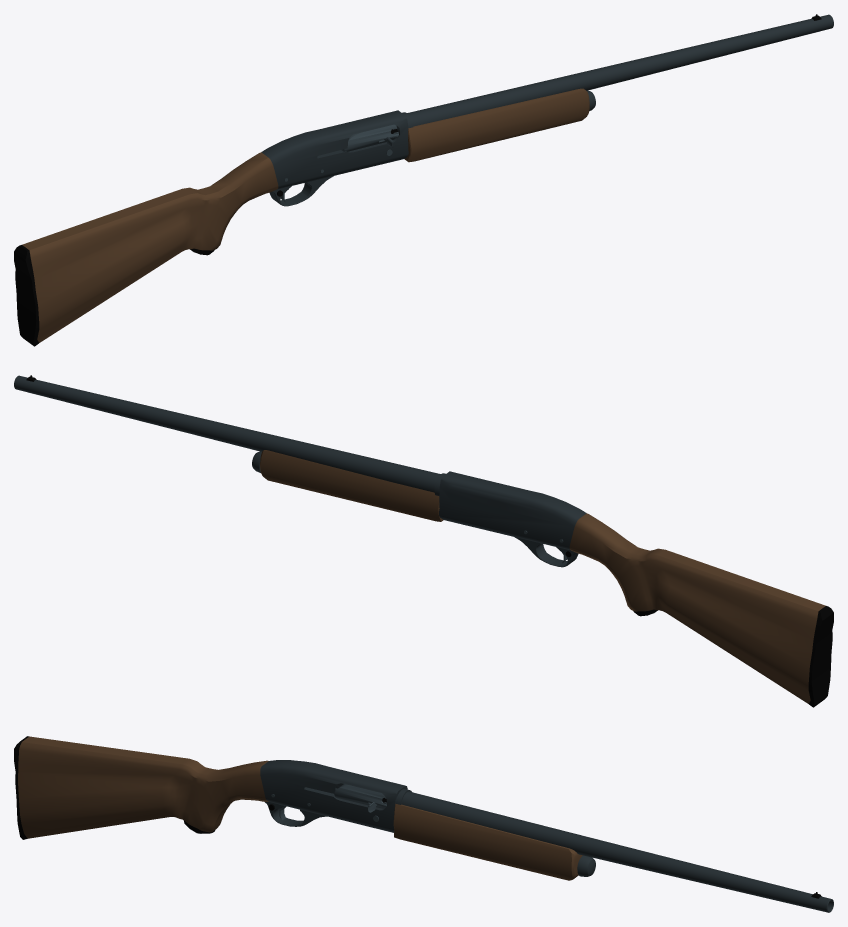
File: remington_sportsman_48.glb
The picture shows the model from 3 angles, top to bottom: view 1: azimuth 30°, elevation 25°; view 2: azimuth 150°, elevation 25°; view 3: azimuth 330°, elevation 25°; orthographic projection.
Visible parts, largest first — view 1: Object_2, Object_3, Object_5, Object_4; view 2: Object_2, Object_3, Object_5; view 3: Object_2, Object_3, Object_4, Object_5.
Boxes of the visible parts, left/top/right/bottom form: Object_2: left=22, top=88, right=589, bottom=342; Object_3: left=261, top=14, right=833, bottom=206; Object_5: left=14, top=14, right=821, bottom=346; Object_4: left=280, top=124, right=398, bottom=201; Object_2: left=260, top=450, right=825, bottom=703; Object_3: left=14, top=375, right=586, bottom=567; Object_5: left=26, top=375, right=833, bottom=707; Object_2: left=18, top=736, right=582, bottom=880; Object_3: left=260, top=760, right=833, bottom=912; Object_4: left=271, top=784, right=386, bottom=821; Object_5: left=14, top=736, right=821, bottom=898.
Bounding box in the file's own units: 9.23 × 1.51 × 0.4248.
